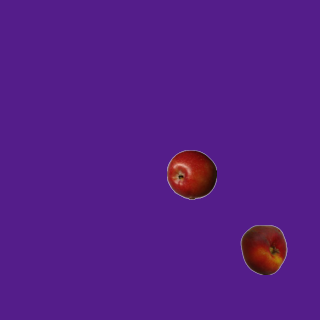Apple Braeburn: (166, 149, 216, 199)
Nectarine Flat: (238, 224, 288, 274)
